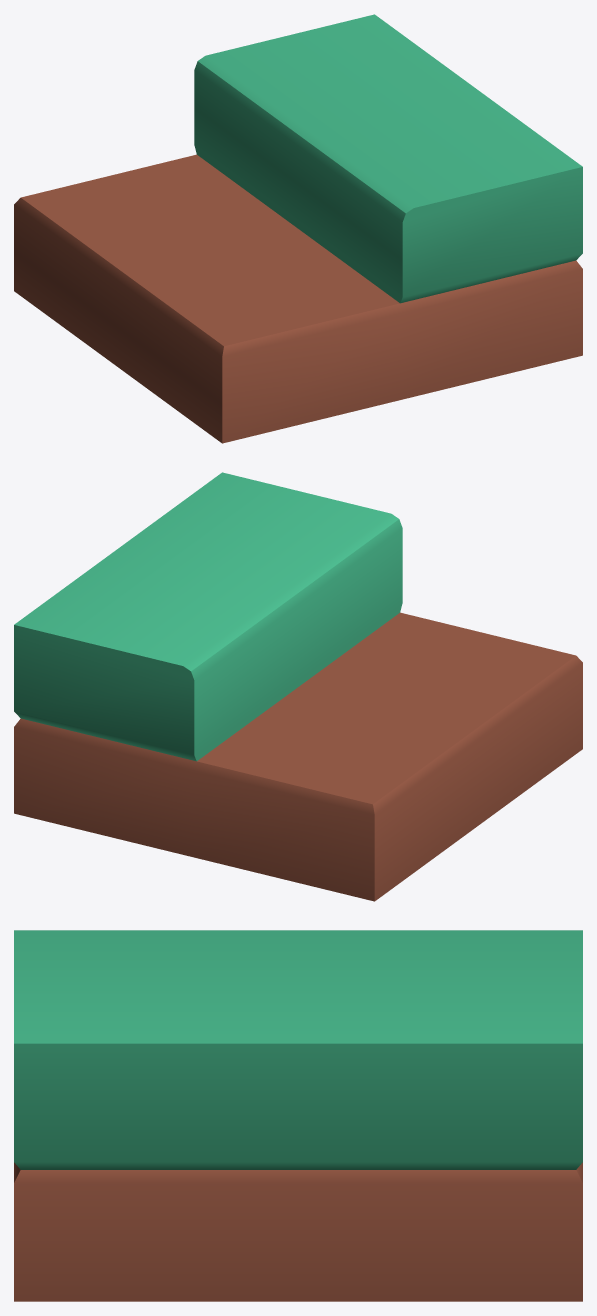
Rendered from square_forest_waterStraight_empty.glb.
3 views of the same model, one above another, from view 1: azimuth 30°, elevation 25°; view 2: azimuth 150°, elevation 25°; view 3: azimuth 270°, elevation 25° (orthographic). The views are drawn at different scales.
Visible parts, largest first — view 1: square_forest_waterStraight_empty; view 2: square_forest_waterStraight_empty; view 3: square_forest_waterStraight_empty.
Part boxes in pixels (<box>): square_forest_waterStraight_empty: <box>14,14,582,443</box>; square_forest_waterStraight_empty: <box>14,472,582,901</box>; square_forest_waterStraight_empty: <box>14,930,582,1301</box>.
Bounding box in the file's own units: 3.82 × 1.91 × 3.82.
